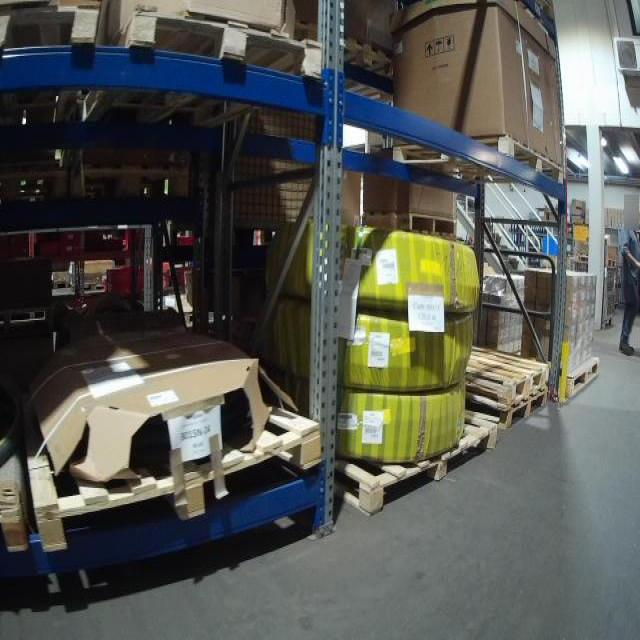pallet: (18, 388, 325, 554), (81, 3, 324, 124), (335, 403, 499, 519), (390, 134, 567, 190), (462, 341, 551, 402), (69, 164, 195, 204), (336, 36, 397, 99), (464, 390, 547, 433), (565, 355, 602, 401), (606, 258, 619, 270)
small_load_carrier: (29, 244, 84, 262), (29, 231, 85, 247), (107, 266, 142, 288), (124, 228, 146, 255), (168, 268, 191, 291), (176, 232, 198, 256)
stillage: (205, 92, 340, 236)
